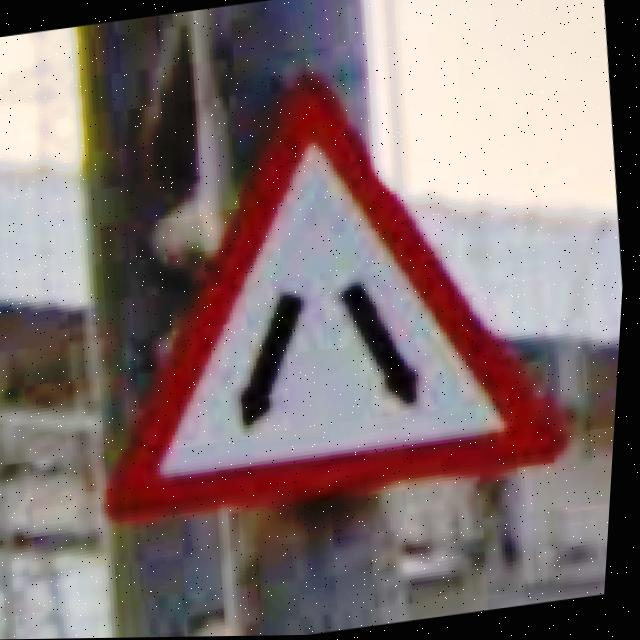diverge: (56, 40, 598, 536)
